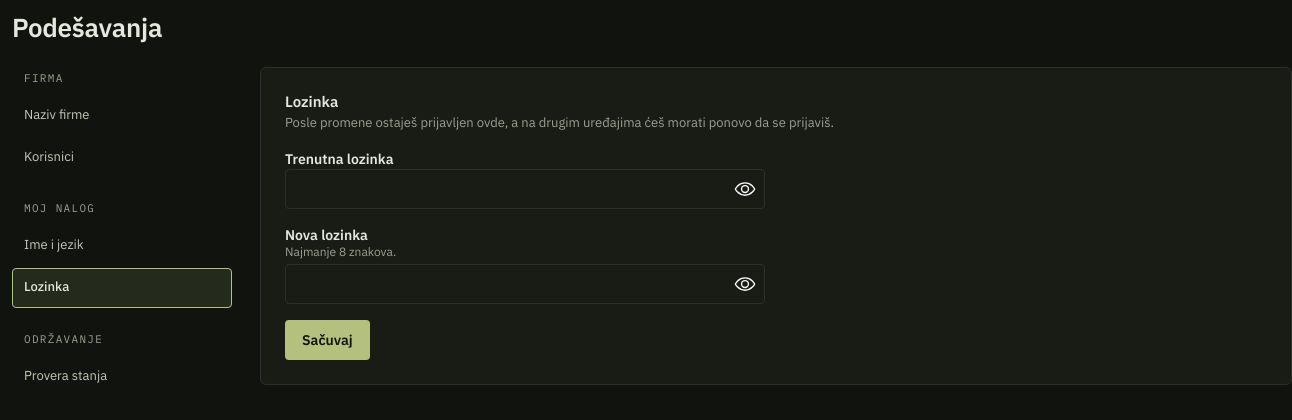
Test: SettingsPage › ChangePassword_WrongCurrent_ShowsItOnThatField
The image size is (1292, 420).
In the password field labelled "Trenutna lozinka": point(525, 189) [286,170,764,208], type "pogresna"
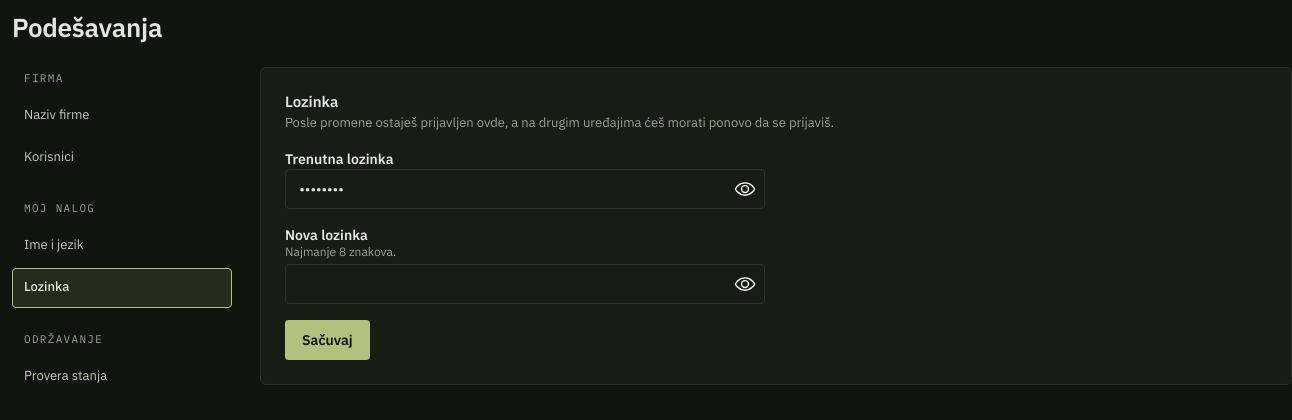
In the password field labelled "Nova lozinka": point(525, 284) [286,264,764,302], type "nova-sigurna-lozinka"
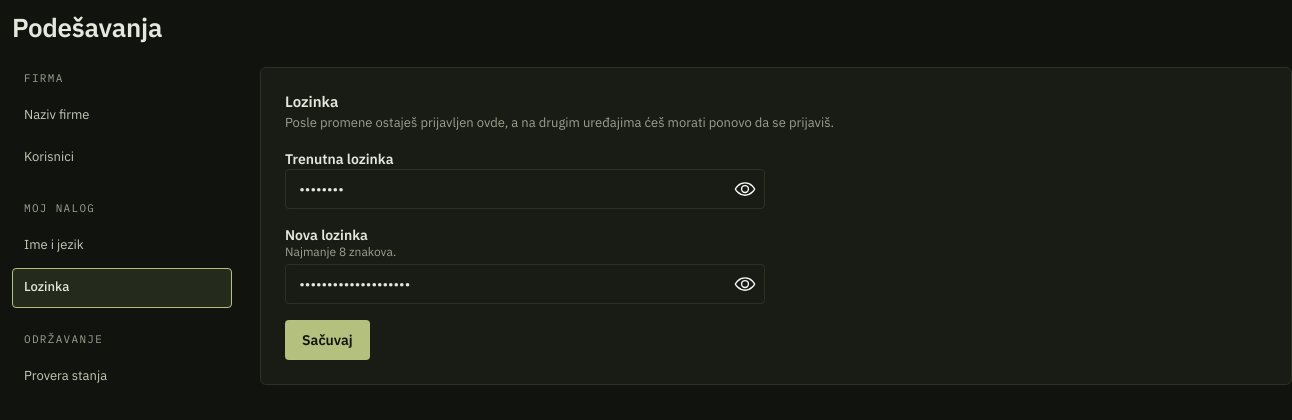
Click the button "Sačuvaj": point(327, 340) [285,320,370,360]
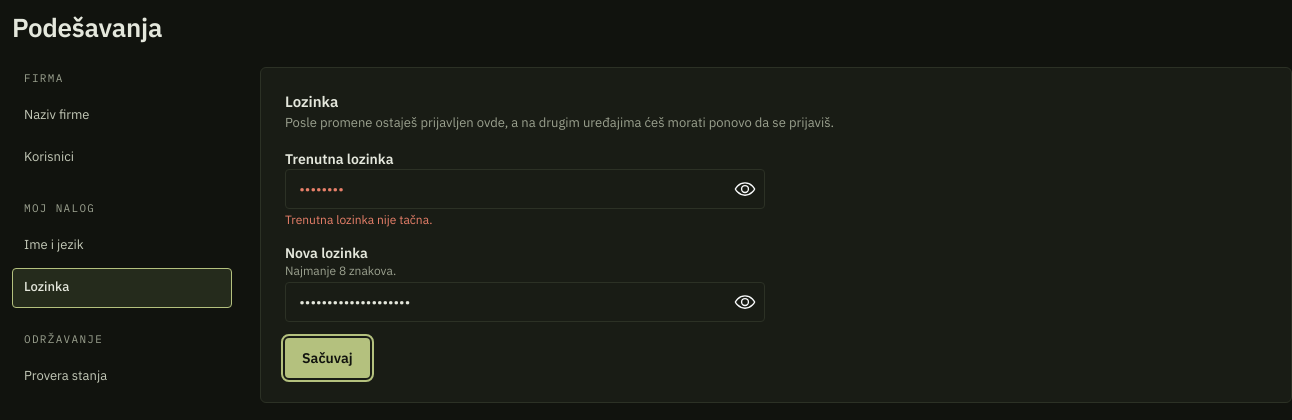
Expected: the text "Trenutna lozinka nije tačna." is shown, [285,212,432,227]
